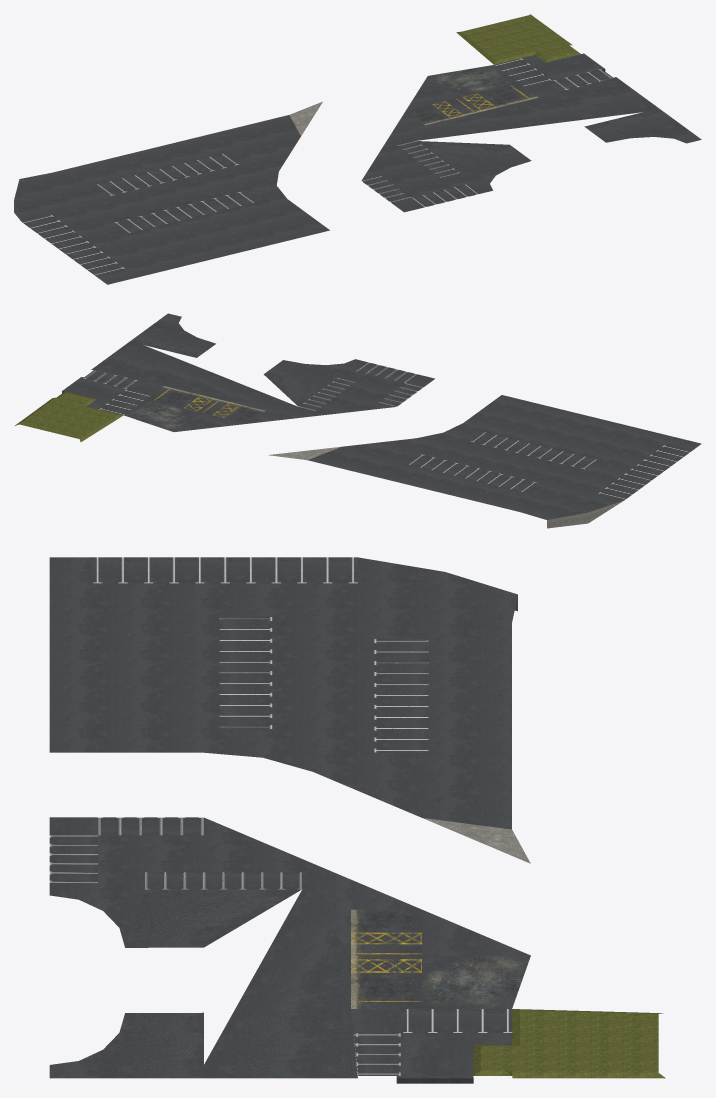
The model's file is vegasnedge21.obj.
3 views of the same model, one above another, from view 1: azimuth 30°, elevation 25°; view 2: azimuth 150°, elevation 25°; view 3: azimuth 270°, elevation 25° (orthographic). The views are drawn at different scales.
Visible parts, largest first — view 1: VegasNedge21; view 2: VegasNedge21; view 3: VegasNedge21.
Boxes of the visible parts, box(x1,y1,x2,y2) form: VegasNedge21: box(14, 14, 701, 284); VegasNedge21: box(15, 313, 701, 528); VegasNedge21: box(49, 557, 665, 1083).
Size of the model in its own units: 160 by 3.54 by 80.
Materials: 6 (6 with a texture image).
